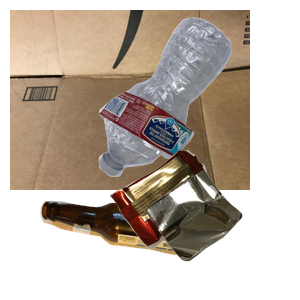cardboard: (10, 10, 250, 190)
glass: (37, 198, 236, 300)
plastic: (96, 15, 300, 184)
trash: (107, 148, 300, 300)
